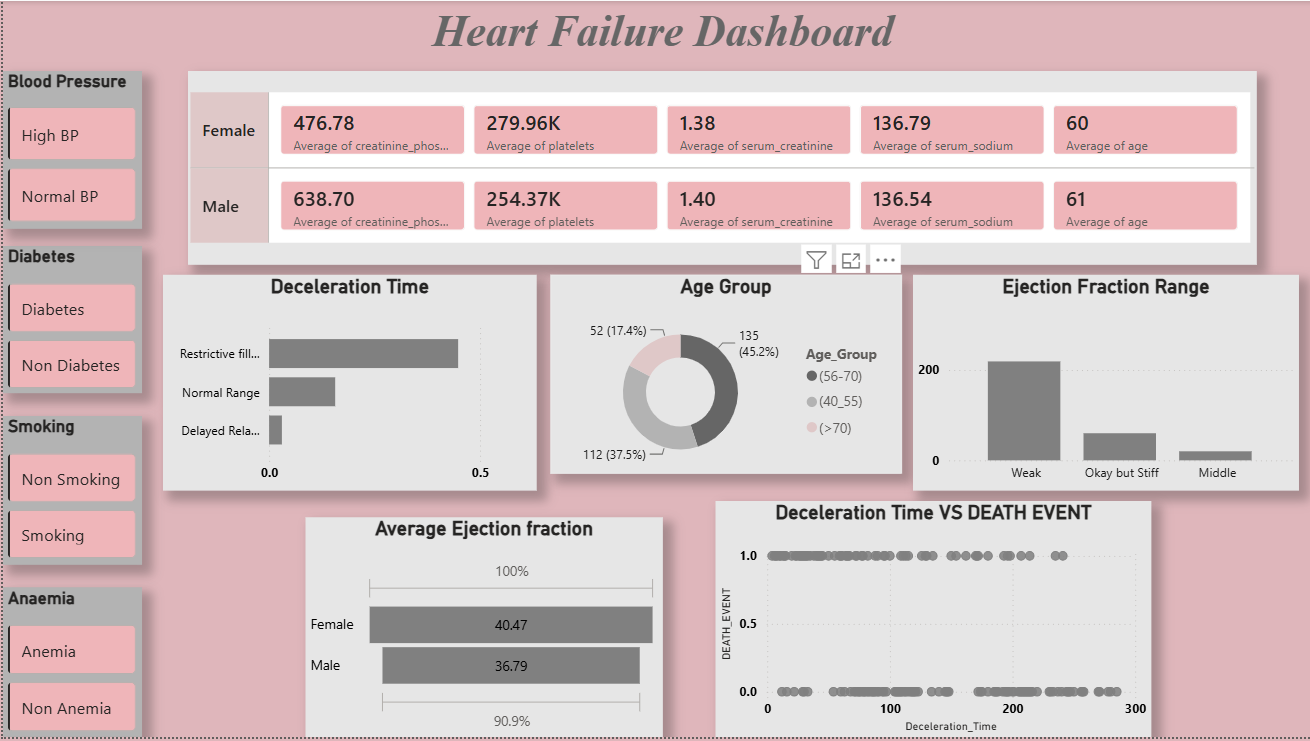

The page's visual inventory and layout, read from the dashboard file:
{"tool":"powerbi","page":{"name":"Page 2","canvas":[1280,720],"ordinal":1},"visuals":[{"type":"textbox","box":[9.8,0,1270.5,68.5],"z":0},{"type":"advancedSlicerVisual","title":"Anaemia","fields":{"Values":["heart_failure_clinical_records_.anaemia"]},"box":[0,573.5,135.7,146.7],"z":1000},{"type":"advancedSlicerVisual","title":"Diabetes","fields":{"Values":["heart_failure_clinical_records_.diabetes"]},"box":[0,239.7,135.7,144.3],"z":2000},{"type":"advancedSlicerVisual","title":"Smoking","fields":{"Values":["heart_failure_clinical_records_.smoking"]},"box":[0,406,135.7,145.5],"z":3000},{"type":"advancedSlicerVisual","title":"Blood Pressure","fields":{"Values":["heart_failure_clinical_records_.high_blood_pressure"]},"box":[0,68.5,135.7,154.1],"z":4000},{"type":"cardVisual","fields":{"Rows":["heart_failure_clinical_records_.Gender"],"Data":["Avg(heart_failure_clinical_records_.creatinine_phosphokinase)","Avg(heart_failure_clinical_records_.platelets)","Avg(heart_failure_clinical_records_.serum_creatinine)","Avg(heart_failure_clinical_records_.serum_sodium)","Avg(heart_failure_clinical_records_.age)"]},"box":[181,68.5,1045.5,189.5],"z":5000},{"type":"barChart","title":"Deceleration Time","fields":{"Category":["heart_failure_clinical_records_.DT_Range"],"Y":["Avg(heart_failure_clinical_records_.DEATH_EVENT)"]},"box":[156.5,267.8,365.6,211.6],"z":6000},{"type":"donutChart","title":"Age Group","fields":{"Category":["heart_failure_clinical_records_.Age_Group"],"Y":["CountNonNull(heart_failure_clinical_records_.Age_Group)"]},"box":[535.6,267.8,343.6,194.4],"z":7000},{"type":"clusteredColumnChart","title":"Ejection Fraction Range","fields":{"Category":["heart_failure_clinical_records_.Ejection _Fraction_Range"],"Y":["CountNonNull(heart_failure_clinical_records_.DEATH_EVENT)"]},"box":[890.2,267.8,377.9,211.6],"z":8000},{"type":"funnel","title":"Average Ejection fraction","fields":{"Category":["heart_failure_clinical_records_.Gender"],"Y":["Avg(heart_failure_clinical_records_.ejection_fraction)"]},"box":[295.9,505,349.7,215.2],"z":9000},{"type":"scatterChart","title":"Deceleration Time VS DEATH EVENT","fields":{"Y":["heart_failure_clinical_records_.DEATH_EVENT"],"X":["heart_failure_clinical_records_.Deceleration_Time"]},"box":[697,489.1,426.8,231.1],"z":10000}]}

Visuals, with their boxes in screenshot pixels (x1, y1, x2, y2), scaled from the page's 1280x720 canvas onto the 1310x741 screenshot:
textbox: bbox=[10, 0, 1309, 70]
"Anaemia" advancedSlicerVisual: bbox=[0, 590, 139, 740]
"Diabetes" advancedSlicerVisual: bbox=[0, 247, 139, 395]
"Smoking" advancedSlicerVisual: bbox=[0, 418, 139, 568]
"Blood Pressure" advancedSlicerVisual: bbox=[0, 70, 139, 229]
cardVisual - heart_failure_clinical_records_.Gender x Avg(heart_failure_clinical_records_.creatinine_phosphokinase): bbox=[185, 70, 1255, 266]
"Deceleration Time" barChart: bbox=[160, 276, 534, 493]
"Age Group" donutChart: bbox=[548, 276, 900, 476]
"Ejection Fraction Range" clusteredColumnChart: bbox=[911, 276, 1298, 493]
"Average Ejection fraction" funnel: bbox=[303, 520, 661, 740]
"Deceleration Time VS DEATH EVENT" scatterChart: bbox=[713, 503, 1150, 740]
